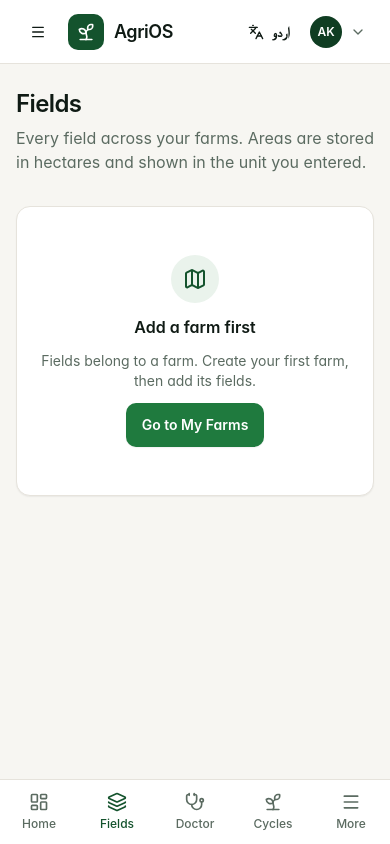
Test case: routing and shell › opens and closes the mobile navigation drawer
This screenshot has width=390, height=844.
Click the button named "Open menu": point(38, 32) 16,10 -> 60,54
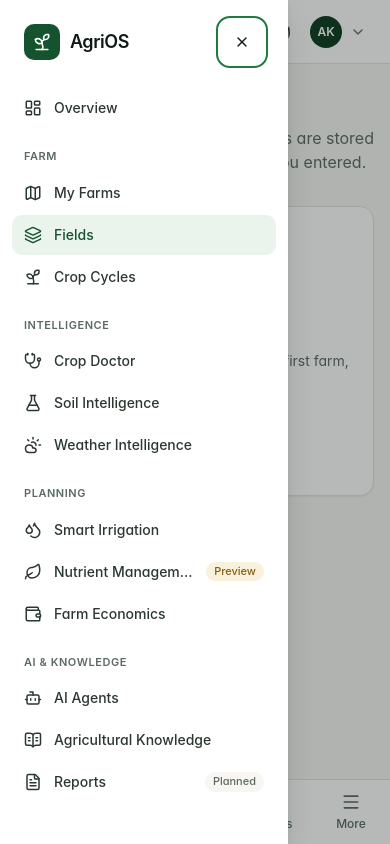
Click the button named "Close menu": point(242, 42) 220,20 -> 264,64
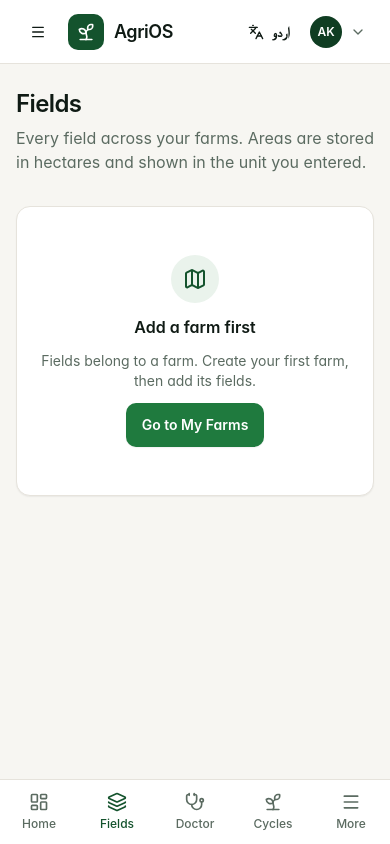
Expected: the dialog "Navigation" is gone
